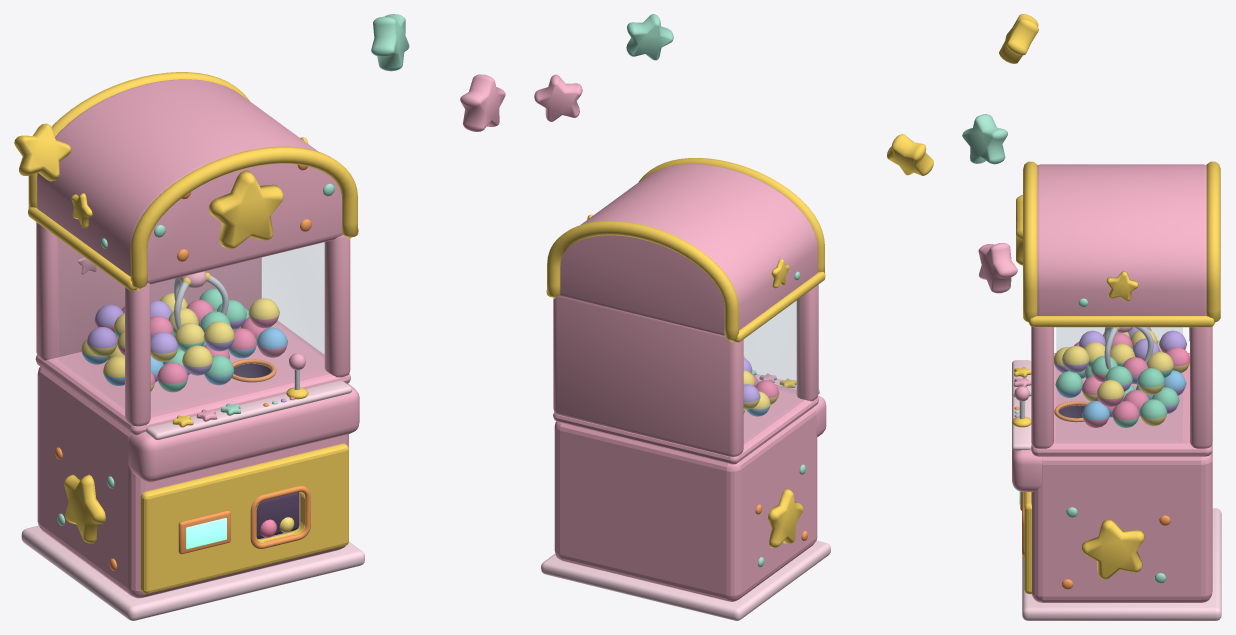
The model's file is ClawMachine.fbx.
3 renders of one model, left to right at view 1: azimuth 30°, elevation 25°; view 2: azimuth 150°, elevation 25°; view 3: azimuth 270°, elevation 25°, orthographic. The views are drawn at different scales.
Visible parts, largest first — view 1: CM_Body, CM_Glass, SW_Star_Yellow, SW_Star_Pink, SW_Star_Mint, CM_Screen, CM_Cap_38, CM_Cap_39, CM_Cap_37, CM_Cap_21, CM_Cap_32, CM_Cap_36 (+1 smaller); view 2: CM_Body, CM_Glass, SW_Star_Pink, SW_Star_Mint, SW_Star_Yellow; view 3: CM_Body, CM_Glass, SW_Star_Mint, SW_Star_Pink, SW_Star_Yellow, CM_Cap_33, CM_Cap_34, CM_Cap_39, CM_Cap_38, CM_Cap_25, CM_Cap_22, CM_Cap_32 (+10 smaller).
Part boxes in pixels (bbox=[...]): CM_Body: bbox=[21, 72, 364, 620]; CM_Glass: bbox=[57, 238, 324, 412]; SW_Star_Yellow: bbox=[14, 123, 71, 181]; SW_Star_Pink: bbox=[460, 74, 505, 131]; SW_Star_Mint: bbox=[371, 14, 409, 71]; CM_Screen: bbox=[186, 518, 226, 549]; CM_Cap_38: bbox=[203, 321, 234, 351]; CM_Cap_39: bbox=[248, 298, 279, 328]; CM_Cap_37: bbox=[182, 345, 213, 375]; CM_Cap_21: bbox=[157, 362, 188, 392]; CM_Cap_32: bbox=[257, 327, 287, 357]; CM_Cap_36: bbox=[86, 327, 117, 356]; CM_Body: bbox=[541, 158, 830, 620]; CM_Glass: bbox=[744, 297, 802, 441]; SW_Star_Pink: bbox=[534, 74, 582, 121]; SW_Star_Mint: bbox=[626, 14, 673, 60]; SW_Star_Yellow: bbox=[887, 134, 933, 175]; CM_Body: bbox=[1012, 161, 1221, 620]; CM_Glass: bbox=[1056, 327, 1182, 441]; SW_Star_Mint: bbox=[962, 114, 1007, 164]; SW_Star_Pink: bbox=[978, 243, 1017, 293]; SW_Star_Yellow: bbox=[999, 14, 1038, 63]; CM_Cap_33: bbox=[1139, 399, 1167, 426]; CM_Cap_34: bbox=[1137, 368, 1165, 394]; CM_Cap_39: bbox=[1096, 380, 1124, 406]; CM_Cap_38: bbox=[1061, 346, 1089, 372]; CM_Cap_25: bbox=[1111, 401, 1139, 427]; CM_Cap_22: bbox=[1055, 371, 1083, 397]; CM_Cap_32: bbox=[1082, 401, 1109, 427].
Bounding box in the file's own units: 2.17 × 2.46 × 1.14.
